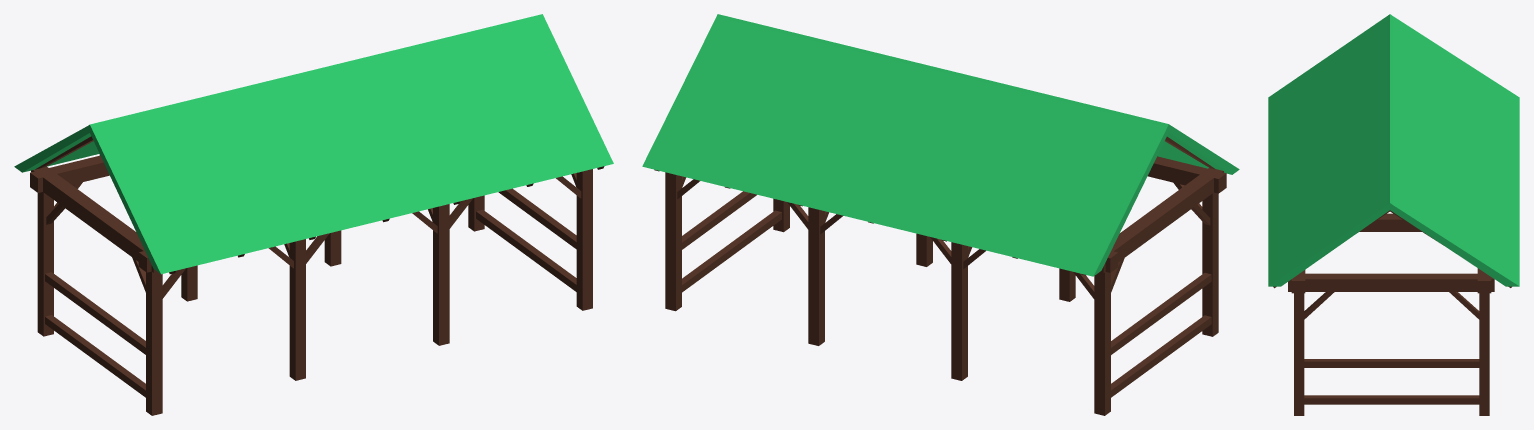
Rendered from WoodenGazebo.FBX.
The picture shows the model from 3 angles, left to right: view 1: azimuth 30°, elevation 25°; view 2: azimuth 150°, elevation 25°; view 3: azimuth 270°, elevation 25°; orthographic projection. The views are drawn at different scales.
Visible parts, largest first — view 1: Box050; view 2: Box050; view 3: Box050.
Boxes of the visible parts, box(x1,y1,x2,y2) form: Box050: box(14, 14, 613, 415); Box050: box(642, 14, 1239, 415); Box050: box(1268, 14, 1519, 415).
Bounding box in the file's own units: 3.3 × 1.75 × 1.86.
1 material, 1 textured.
